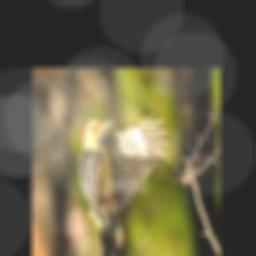Woodpecker: (77, 116, 168, 256)
